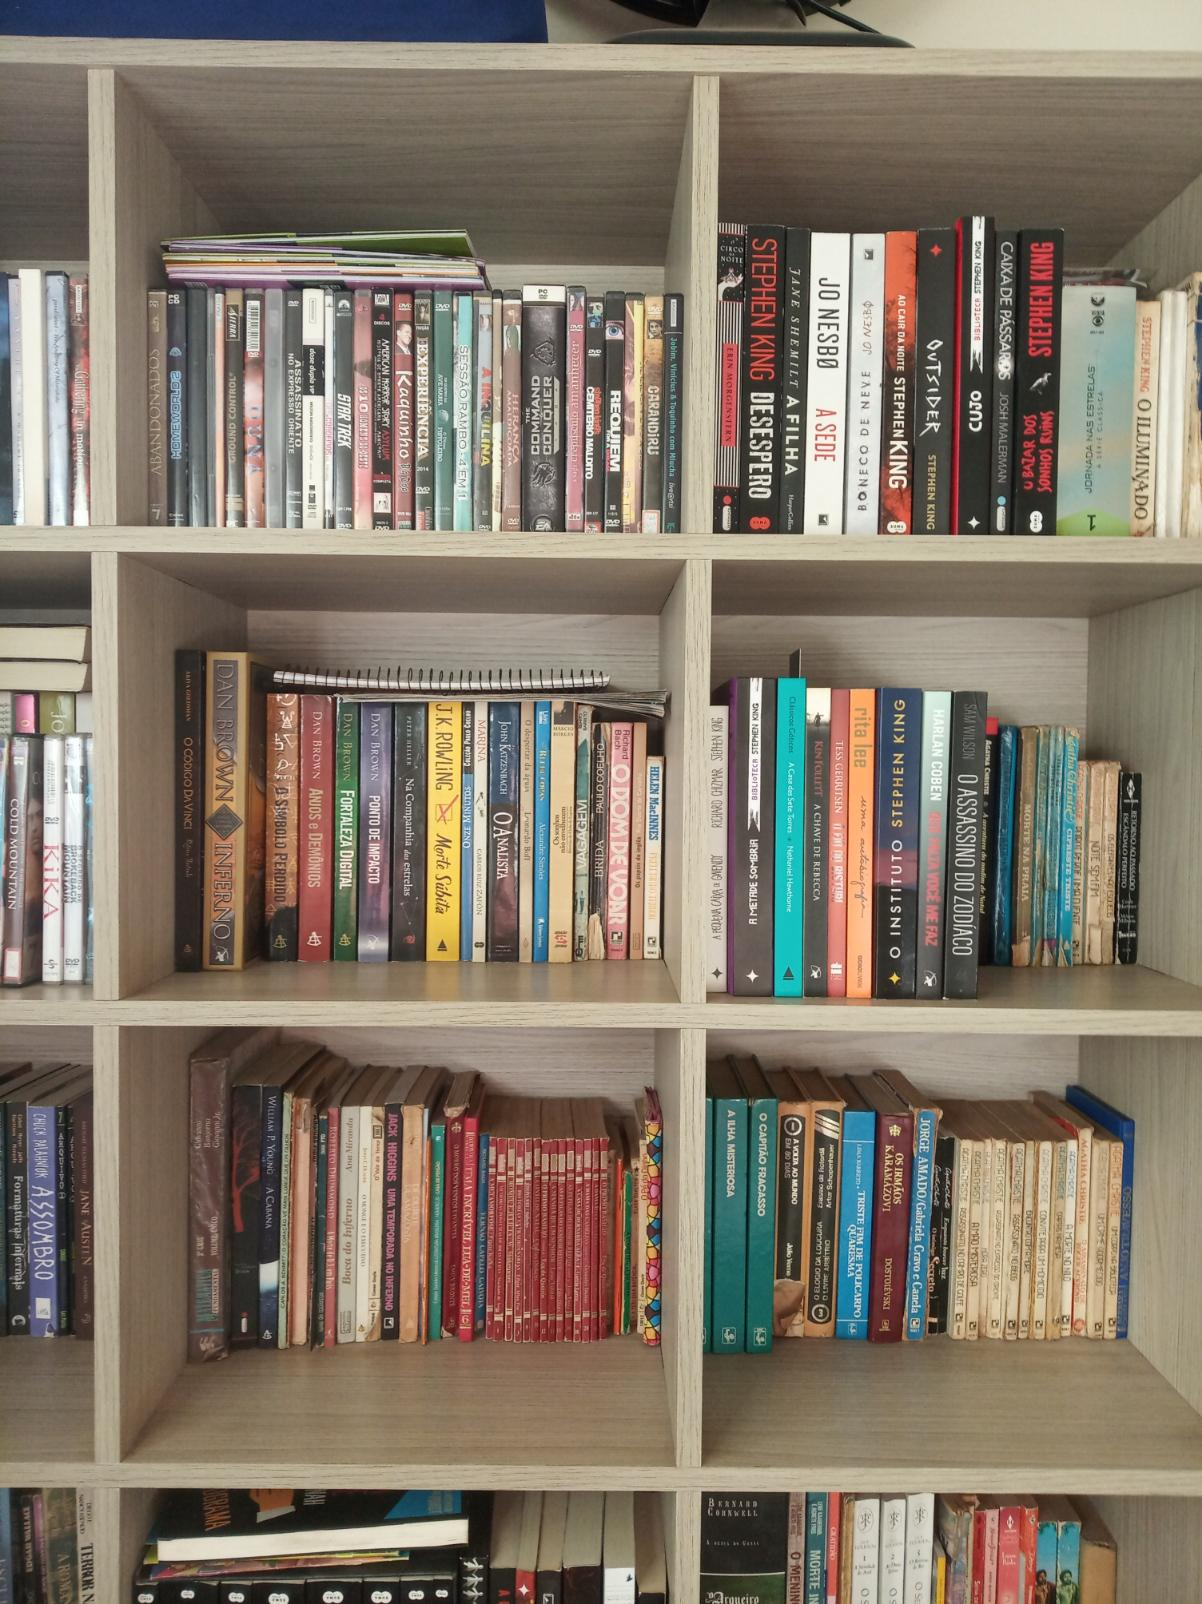book: (1061, 286, 1128, 539), (1019, 233, 1057, 534), (807, 236, 842, 534), (878, 692, 912, 998), (206, 652, 237, 976), (735, 676, 766, 994), (523, 284, 562, 533), (957, 218, 987, 535), (920, 233, 951, 534), (746, 228, 775, 531), (883, 233, 912, 534), (391, 705, 422, 962), (854, 233, 879, 534), (718, 220, 742, 531), (176, 651, 198, 972), (991, 233, 1015, 534), (949, 695, 973, 994), (331, 707, 359, 962), (264, 695, 290, 962), (300, 697, 327, 963), (780, 227, 803, 535), (193, 1059, 216, 1360), (716, 1100, 742, 1352), (490, 700, 515, 960), (778, 675, 798, 994), (431, 703, 455, 963), (1159, 292, 1184, 538), (806, 1103, 832, 1336), (361, 707, 385, 962), (707, 708, 729, 989), (232, 1084, 255, 1347), (848, 687, 867, 998), (777, 1103, 802, 1336), (807, 688, 826, 997), (920, 697, 939, 996), (6, 740, 29, 987), (38, 742, 61, 989), (843, 1114, 867, 1339), (883, 1113, 905, 1339), (1133, 303, 1154, 538), (20, 270, 39, 528), (69, 268, 88, 525), (44, 273, 63, 529), (753, 1102, 771, 1352), (391, 297, 412, 530), (32, 1093, 51, 1336), (4, 1094, 23, 1336), (414, 293, 433, 530), (550, 709, 568, 959), (145, 293, 164, 522), (979, 700, 995, 965), (168, 297, 187, 525), (830, 688, 843, 997), (644, 292, 662, 534), (665, 293, 683, 535), (372, 290, 390, 530), (610, 721, 628, 960), (245, 289, 263, 526), (223, 289, 241, 526), (63, 740, 80, 988), (564, 286, 581, 533), (260, 1098, 277, 1344), (1015, 724, 1032, 968), (1037, 722, 1053, 962), (303, 292, 319, 528), (585, 290, 600, 534), (606, 290, 621, 534), (503, 292, 518, 533), (622, 292, 638, 533), (354, 292, 369, 530), (453, 293, 468, 531), (473, 292, 489, 530), (436, 292, 451, 529), (1117, 774, 1136, 963), (404, 1106, 419, 1342), (383, 1104, 398, 1340), (335, 294, 350, 526), (189, 300, 205, 526), (588, 716, 602, 957), (284, 292, 298, 529), (533, 705, 545, 960), (577, 711, 590, 958), (629, 719, 641, 958), (57, 1100, 69, 1336), (266, 289, 279, 524), (77, 1103, 90, 1338), (646, 1124, 659, 1344), (461, 1118, 473, 1338), (1049, 1141, 1063, 1340), (915, 1116, 928, 1334), (999, 731, 1010, 967), (518, 709, 528, 959), (475, 711, 485, 959), (1091, 1143, 1104, 1338), (341, 1102, 351, 1344), (1078, 1128, 1090, 1339), (367, 1112, 378, 1342), (1020, 1140, 1032, 1339), (311, 1119, 321, 1342), (1088, 764, 1100, 960), (1102, 765, 1114, 960), (8, 280, 16, 528), (431, 1124, 441, 1340), (295, 1103, 304, 1348), (326, 1104, 335, 1345), (213, 290, 222, 530), (491, 297, 500, 531), (446, 1113, 455, 1340), (648, 760, 658, 954), (283, 1093, 290, 1345), (461, 709, 468, 960), (1008, 1145, 1016, 1336), (957, 1143, 965, 1340), (1067, 1142, 1074, 1338), (205, 293, 211, 526), (324, 295, 331, 526), (359, 1111, 365, 1340), (600, 1140, 606, 1340), (485, 1138, 491, 1339), (592, 1141, 598, 1342), (585, 1138, 591, 1339), (992, 1140, 999, 1338), (1114, 1141, 1120, 1338), (972, 1142, 979, 1339), (942, 1140, 948, 1335), (982, 1143, 989, 1335), (614, 1164, 620, 1335), (625, 1166, 631, 1336), (638, 1135, 643, 1345), (1126, 1129, 1131, 1335), (479, 1132, 484, 1336), (549, 1140, 554, 1343), (532, 1137, 537, 1340), (540, 1138, 545, 1342), (558, 1140, 563, 1342), (497, 1138, 503, 1339), (508, 1138, 513, 1339), (566, 1140, 571, 1340), (518, 1140, 523, 1339), (574, 1140, 580, 1339), (525, 1140, 530, 1339), (423, 1136, 427, 1342)
